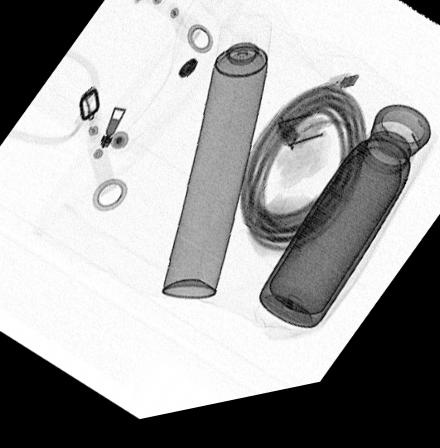Sprayer: (159, 17, 272, 309)
